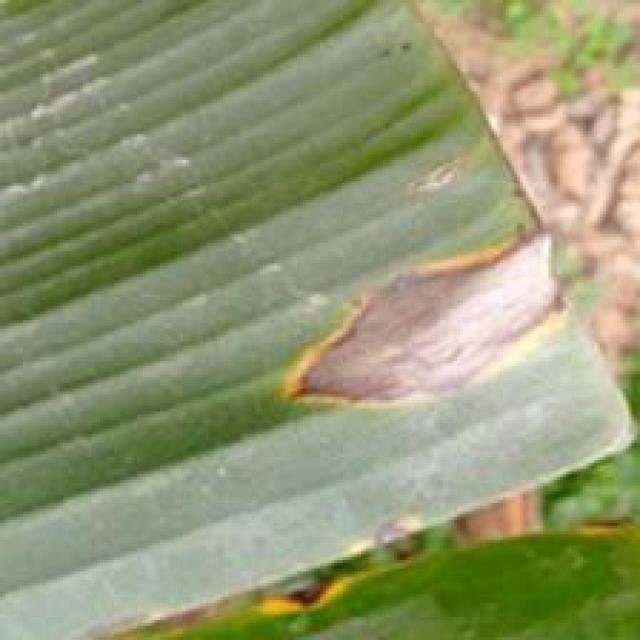Bacterial_spot: (256, 220, 568, 410), (395, 140, 503, 214)
